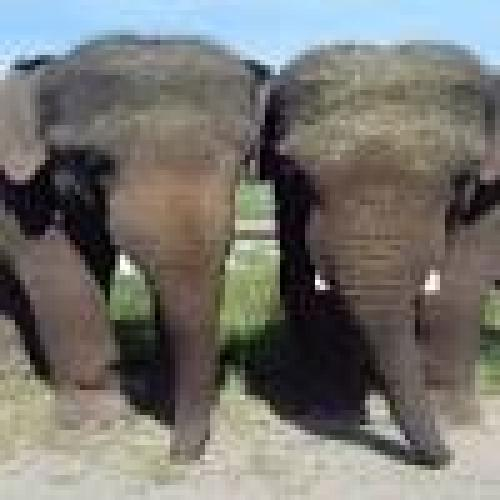asian_elephant-endangered: (0, 31, 273, 461), (265, 41, 500, 463)
